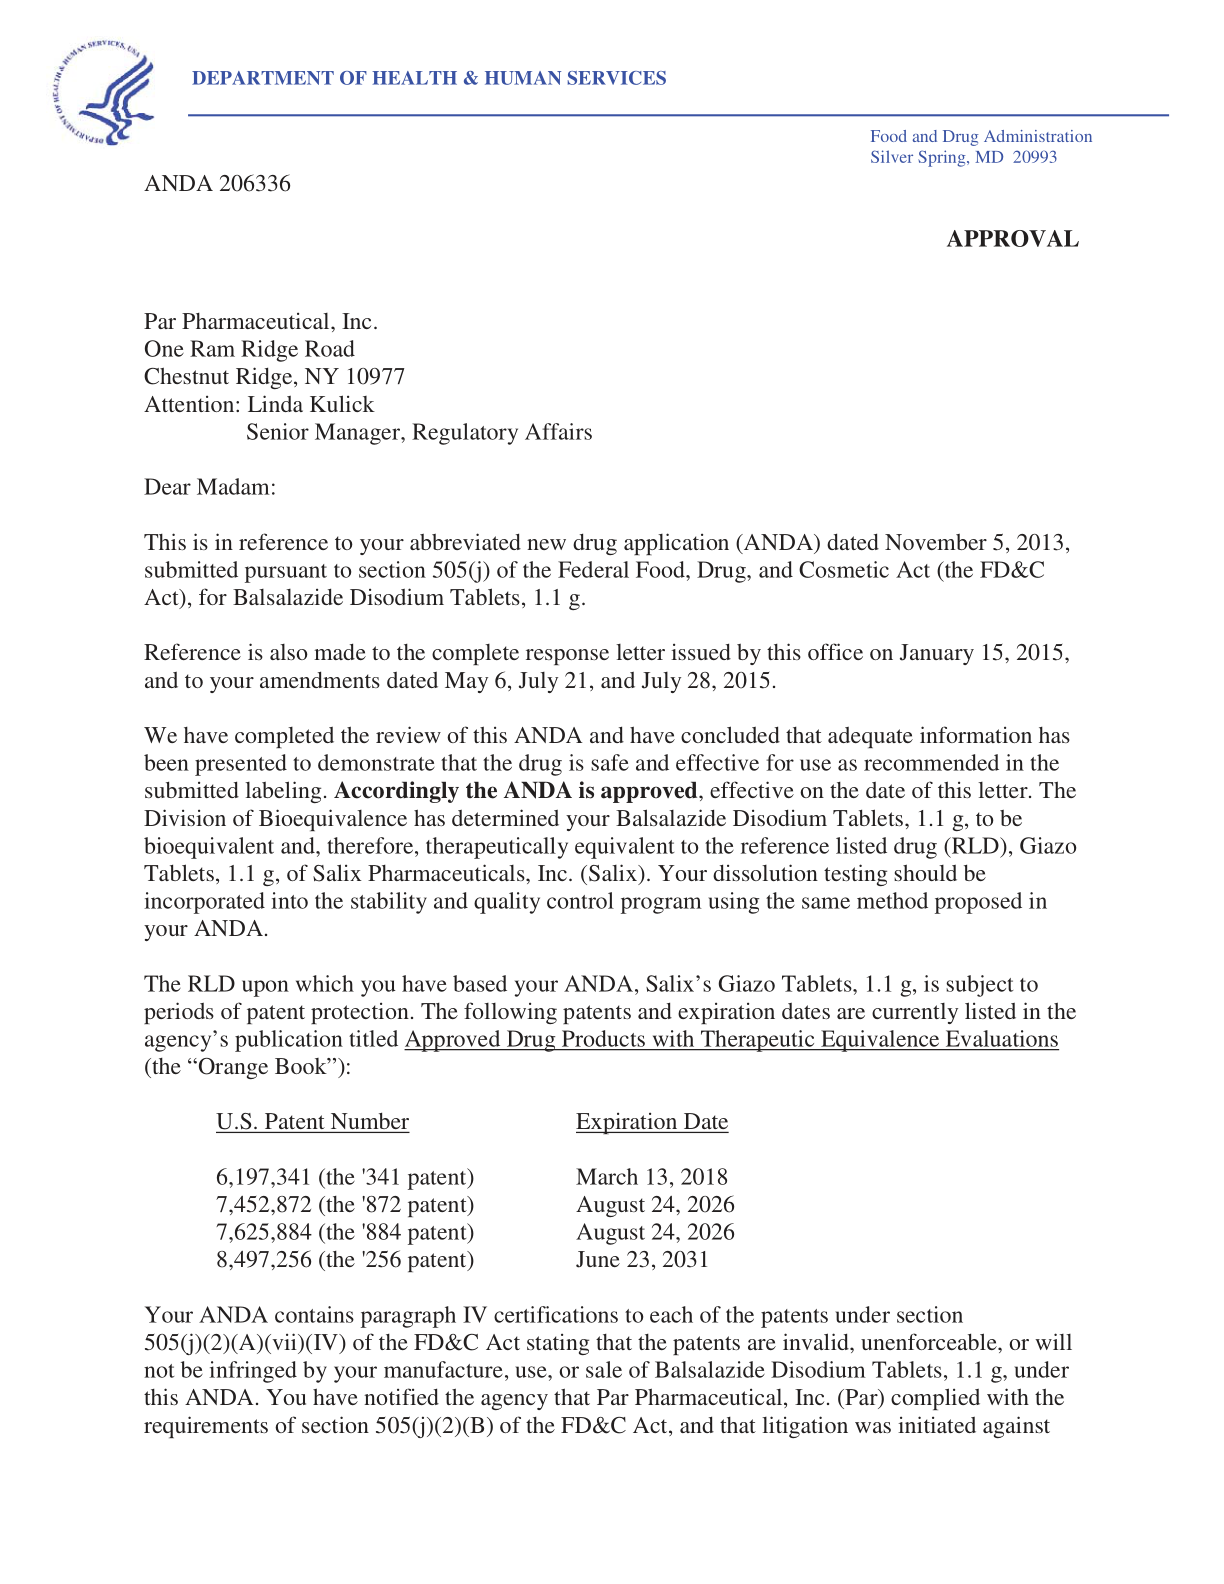nolines: (211, 1106, 738, 1273)
